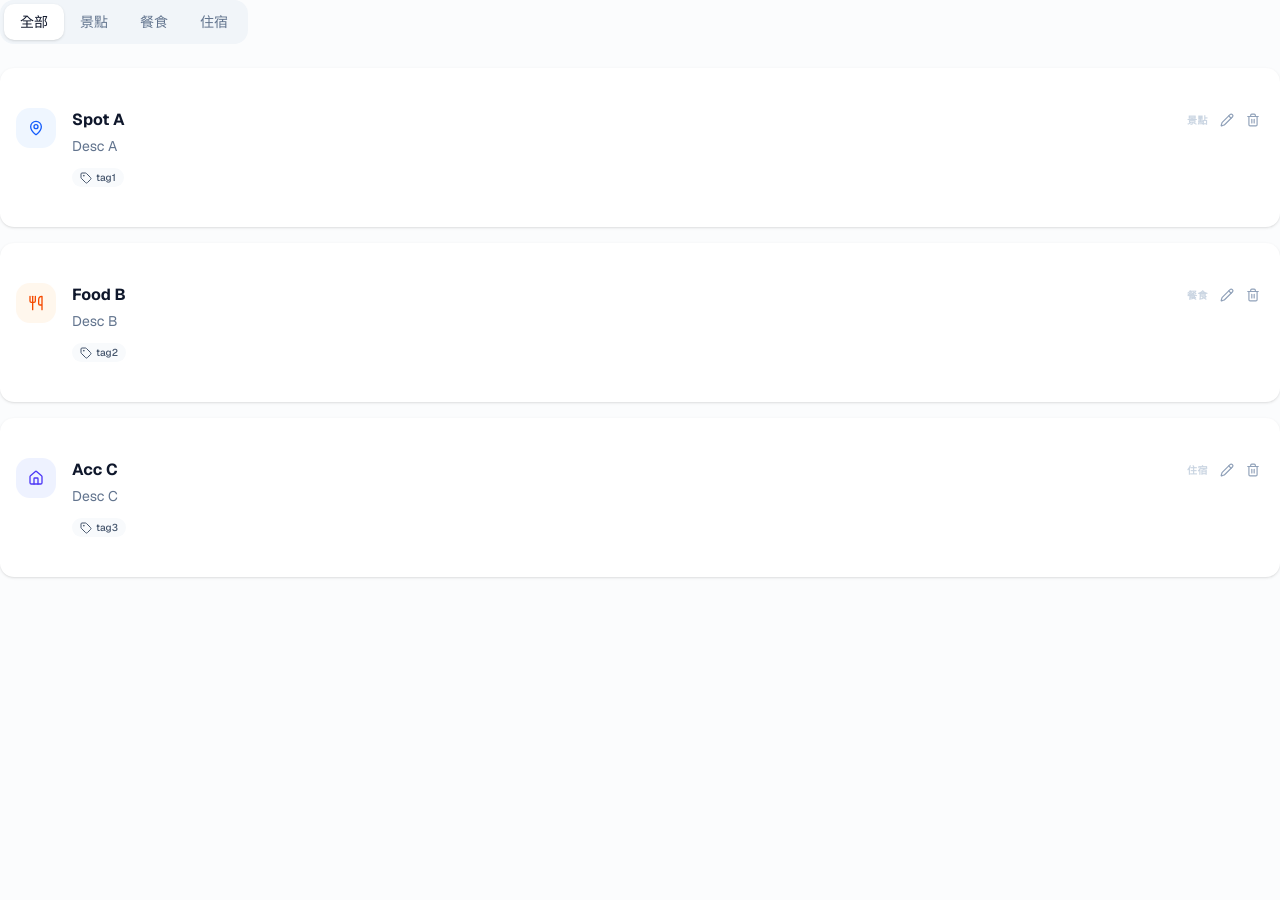
Test case: FavoriteItemsList › shows name and description inputs when editing
The width and height of the screenshot is (1280, 900).
Note: Click edit button of the first item
Click the button named "編輯" in the row of "Spot A" at x=1227, y=120, box [1216, 109, 1238, 131]
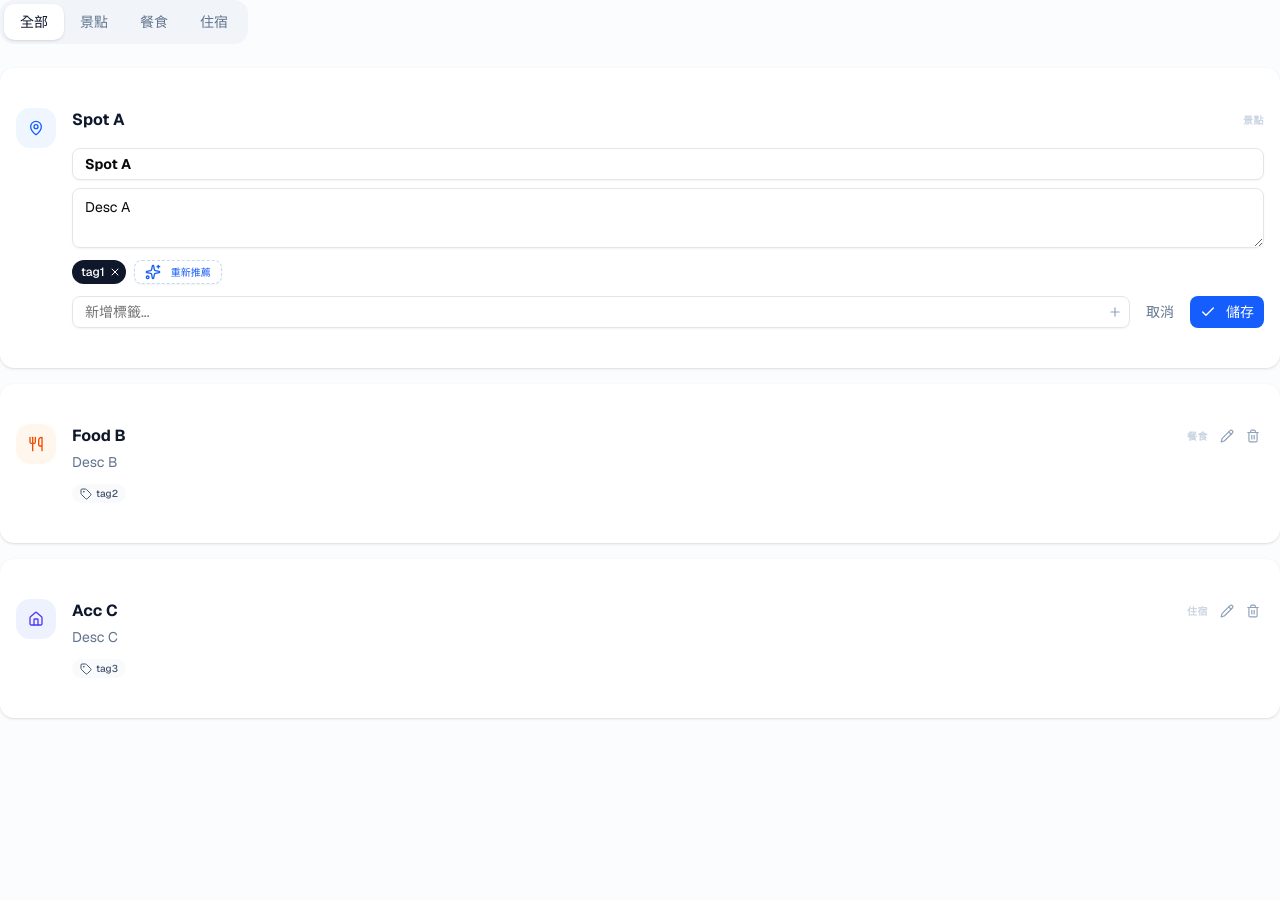
expect the field showing "Spot A" is shown: met, box [72, 148, 1264, 180]
expect the text box showing "Desc A" is shown: met, box [72, 188, 1264, 248]
